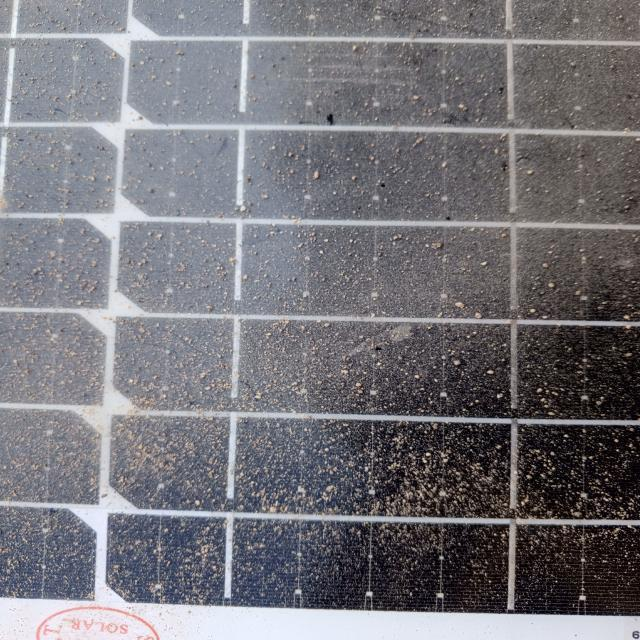Surface Contaminant: (19, 14, 611, 614)
